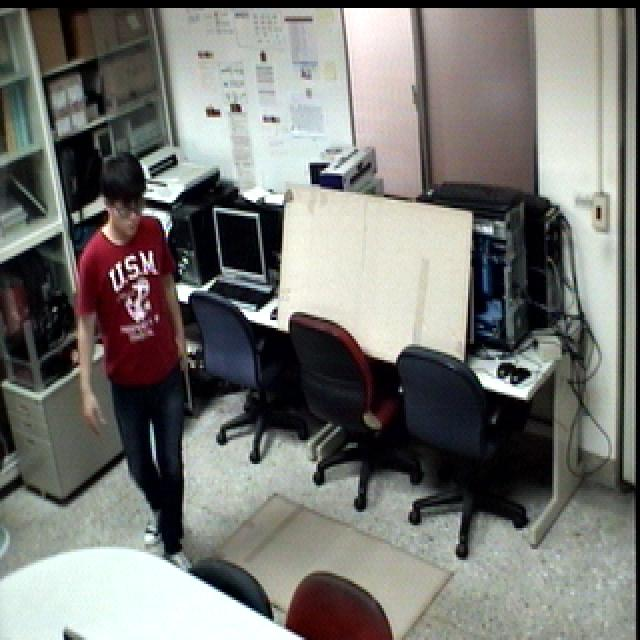stand: (65, 148, 200, 584)
